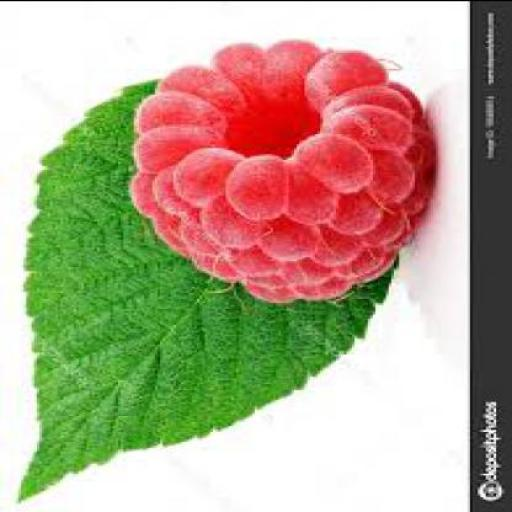biodegradable: (10, 76, 397, 504), (126, 40, 439, 303)
